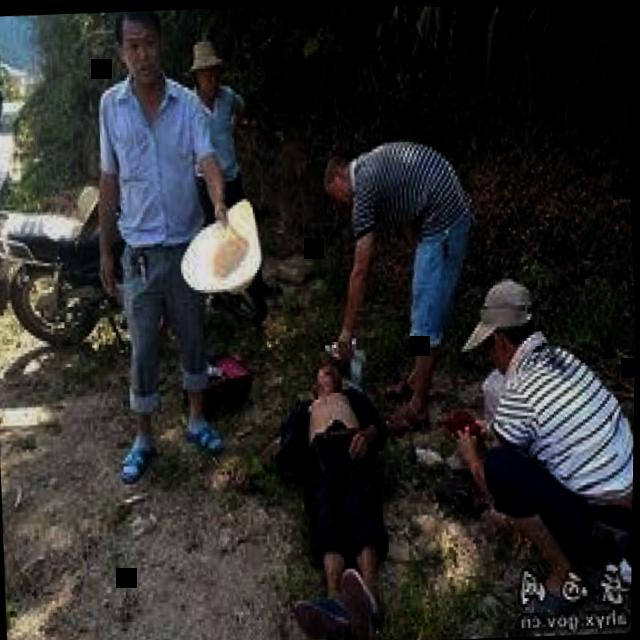Fall-Detected: (266, 313, 413, 640)
